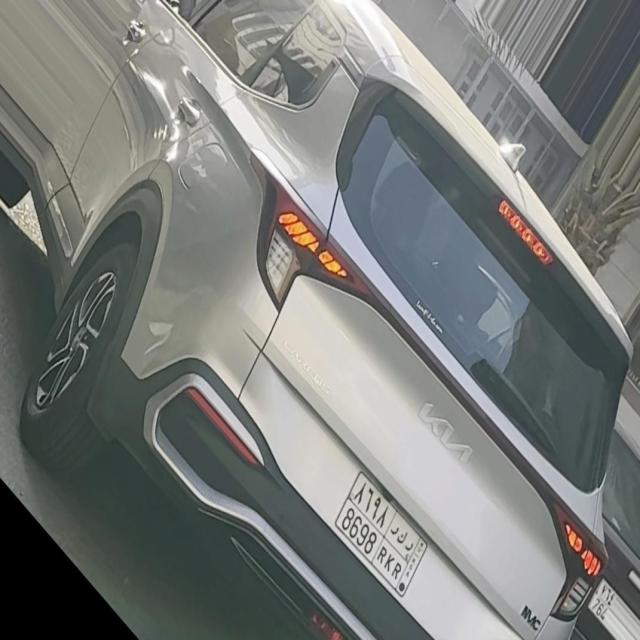Car-plate: (318, 452, 446, 616)
